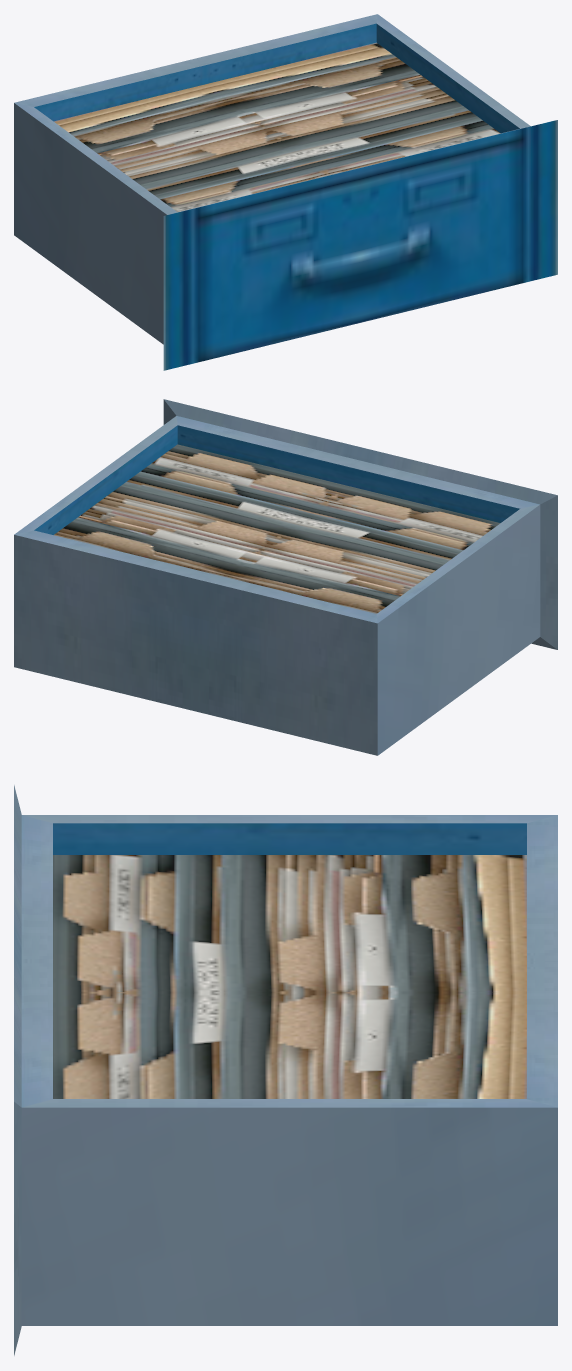
Rendered from filingdraw.gltf.
3 renders of one model, top to bottom at view 1: azimuth 30°, elevation 25°; view 2: azimuth 150°, elevation 25°; view 3: azimuth 270°, elevation 25°, orthographic. The views are drawn at different scales.
Visible parts, largest first — view 1: Cube; view 2: Cube; view 3: Cube.
Boxes of the visible parts, x1,y1,x2,y2 form: Cube: [14, 14, 557, 370]; Cube: [14, 399, 557, 755]; Cube: [14, 785, 557, 1355].
Size of the model in its own units: 1.31 by 0.4926 by 0.9507.
1 material, 1 textured.
